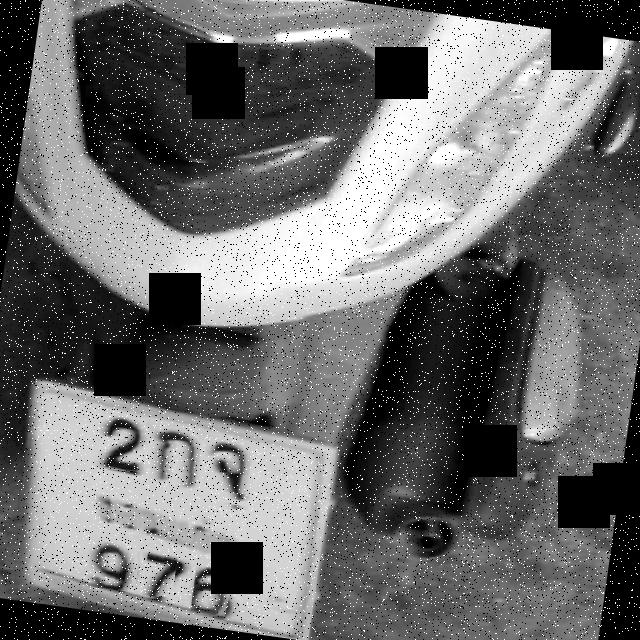letters: (146, 420, 203, 486), (73, 538, 141, 592), (94, 412, 150, 474), (210, 436, 260, 496), (190, 565, 233, 619), (142, 546, 179, 599)
license-plate: (27, 384, 335, 640)
province: (83, 474, 259, 565)
